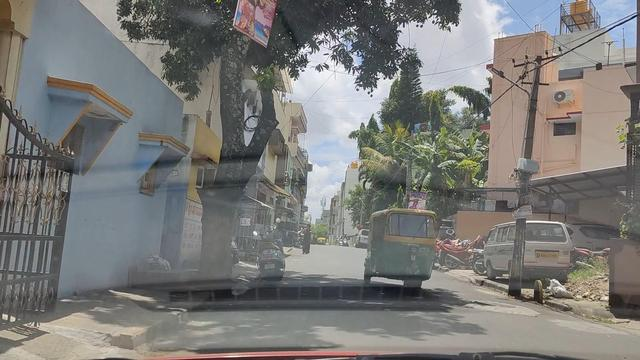LMV: (367, 211, 433, 290)
RoadDamages: (550, 317, 620, 336), (475, 297, 535, 318)
